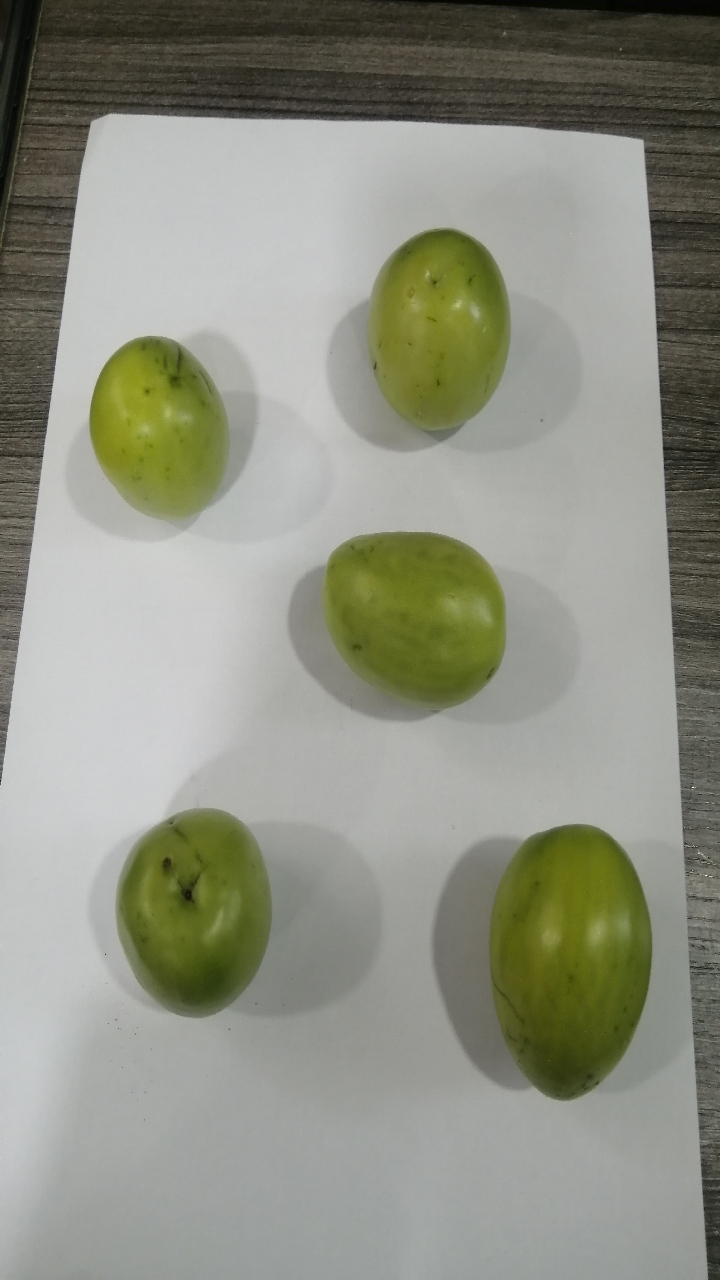tomateVerde: (464, 797, 664, 1125), (92, 786, 284, 1046), (346, 202, 549, 442), (304, 519, 521, 723), (75, 329, 269, 531)
